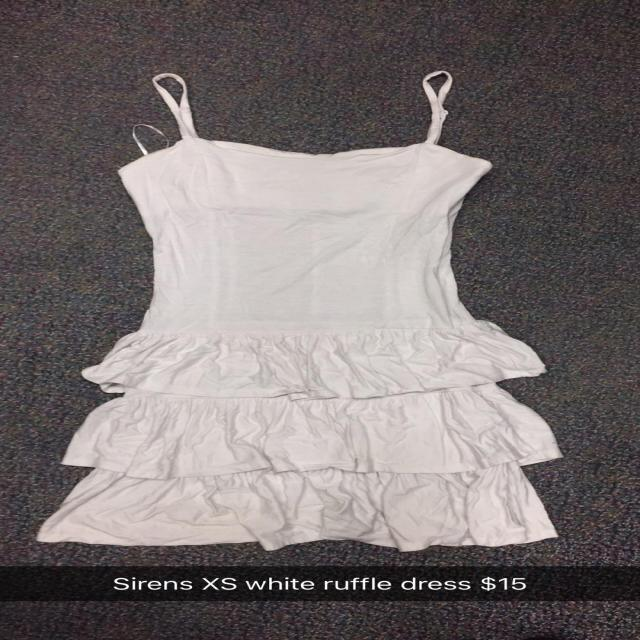Dress: (36, 67, 577, 552)
